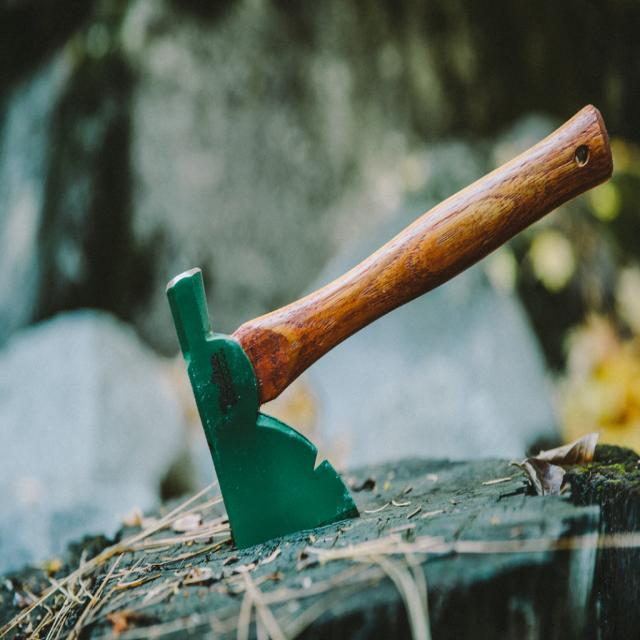Axe: (169, 106, 612, 548)
